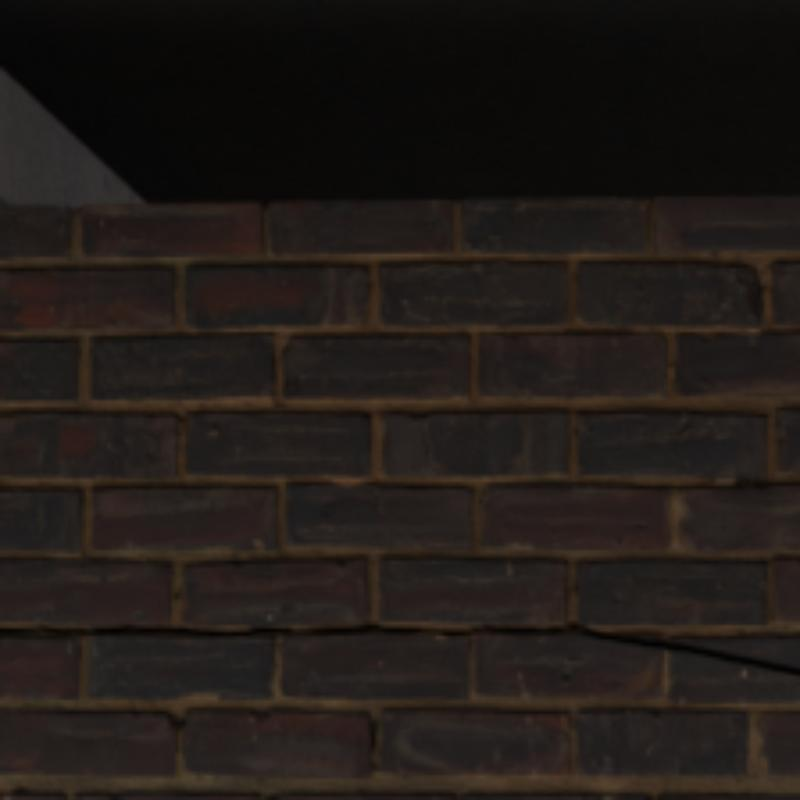pothole: (550, 621, 796, 671), (0, 625, 336, 636), (336, 621, 550, 636)
